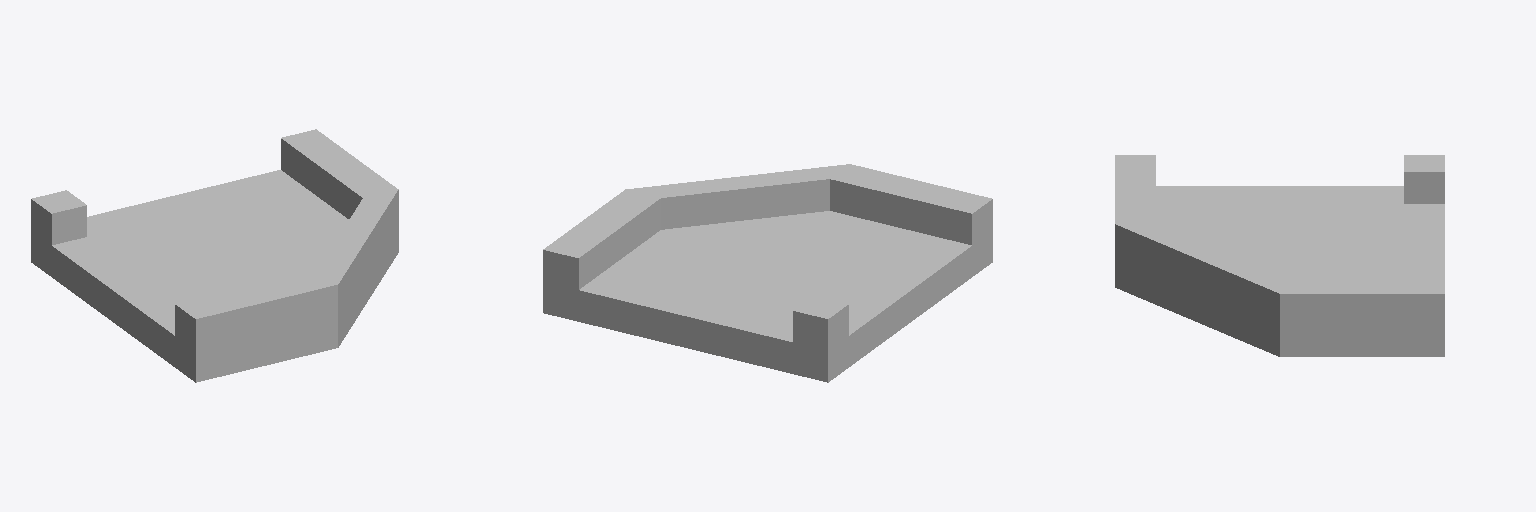
Rendered from roof-flat-border-corner-slanted-passage.obj.
3 views of the same model, side by side, from view 1: azimuth 30°, elevation 25°; view 2: azimuth 150°, elevation 25°; view 3: azimuth 270°, elevation 25° (orthographic).
Visible parts, largest first — view 1: roof-flat-border-corner-slanted-passage; view 2: roof-flat-border-corner-slanted-passage; view 3: roof-flat-border-corner-slanted-passage.
Part boxes in pixels (x1,y1,x2,y2): roof-flat-border-corner-slanted-passage: (31, 129, 398, 382); roof-flat-border-corner-slanted-passage: (543, 164, 992, 382); roof-flat-border-corner-slanted-passage: (1115, 155, 1444, 356).
Size of the model in its own units: 1 by 0.2125 by 1.